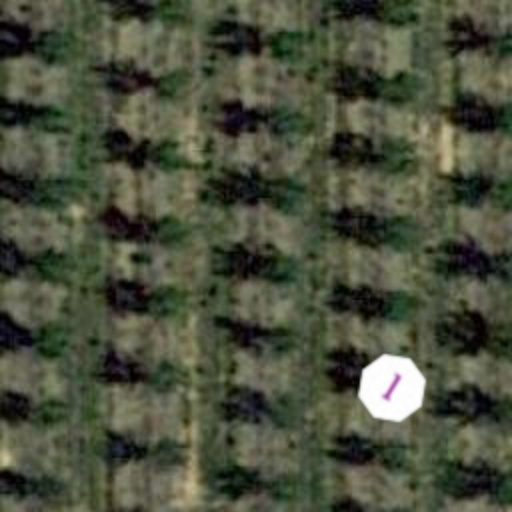octagon: (342, 338, 442, 438)
